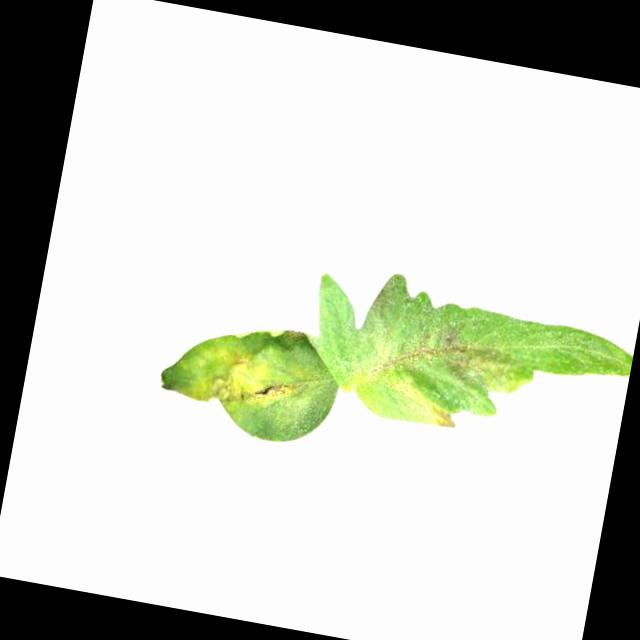Late_blight: (368, 311, 516, 397), (183, 339, 298, 416), (364, 373, 463, 430)
